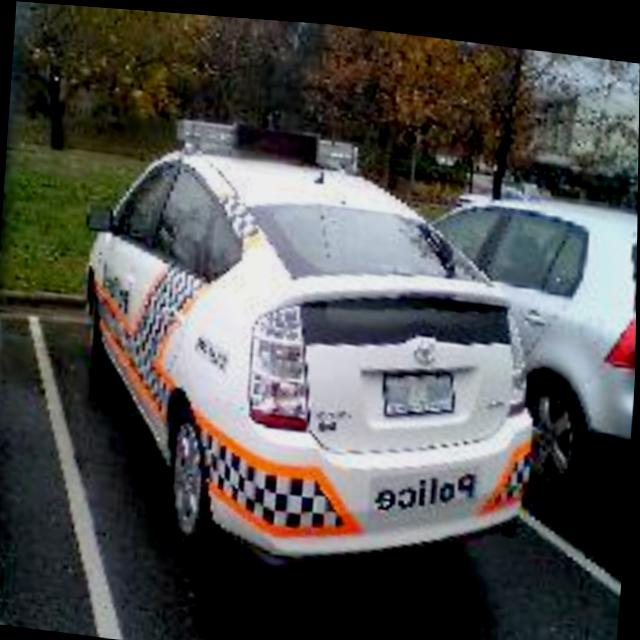emergency: (64, 103, 555, 601)
